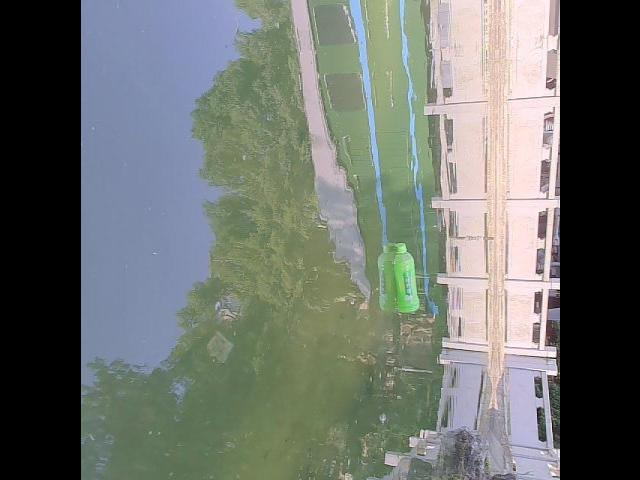Bottle: (387, 236, 423, 320)
